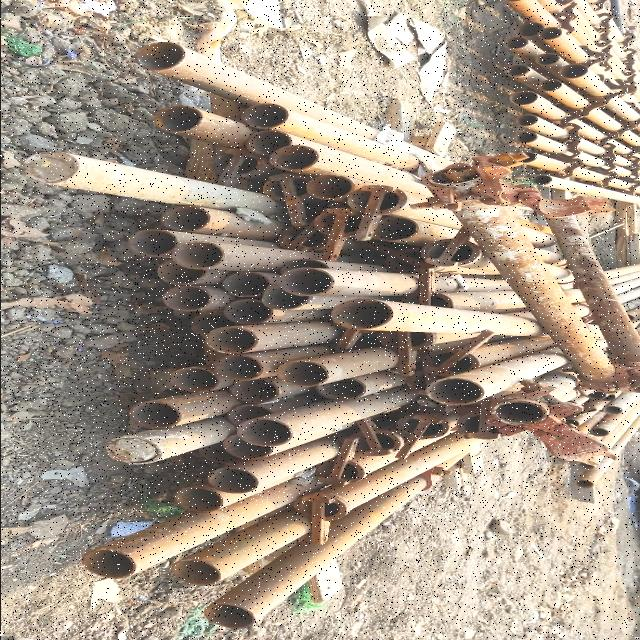pipe: (328, 298, 395, 334), (17, 149, 84, 185), (98, 436, 166, 469), (417, 237, 485, 269), (80, 546, 138, 581), (126, 400, 188, 431), (276, 268, 340, 298), (170, 240, 230, 272), (340, 428, 404, 458), (426, 378, 488, 408), (312, 208, 372, 239), (198, 604, 264, 632), (198, 327, 263, 355), (418, 349, 483, 377), (166, 485, 230, 513), (274, 358, 332, 388), (490, 399, 550, 428), (290, 494, 352, 522), (166, 364, 223, 394), (210, 150, 268, 179), (124, 228, 180, 258), (150, 104, 206, 134), (136, 40, 187, 72), (235, 419, 293, 447), (206, 467, 262, 496), (240, 102, 294, 132), (275, 225, 335, 252), (212, 355, 268, 383), (266, 145, 322, 173), (260, 174, 316, 202), (298, 175, 358, 201), (392, 415, 452, 441), (221, 298, 276, 326), (456, 411, 509, 440), (158, 206, 212, 234), (152, 260, 210, 286), (311, 460, 368, 486), (170, 558, 222, 586), (226, 379, 282, 405), (382, 247, 438, 273), (221, 270, 272, 298), (221, 434, 275, 460), (260, 286, 318, 310), (241, 131, 299, 155), (310, 379, 372, 401), (162, 287, 214, 313), (376, 330, 436, 352), (372, 216, 422, 242), (401, 291, 456, 312), (188, 312, 232, 338), (222, 405, 278, 425), (275, 258, 333, 276), (199, 445, 251, 465), (504, 89, 540, 108), (556, 64, 592, 80), (532, 51, 564, 67), (510, 131, 544, 146), (504, 63, 532, 81), (500, 36, 530, 52), (516, 21, 546, 37), (537, 25, 563, 43), (534, 79, 564, 94), (514, 114, 542, 129), (528, 175, 558, 187), (570, 479, 596, 491), (590, 427, 612, 439), (602, 406, 624, 416), (586, 391, 608, 401), (573, 408, 598, 416), (575, 462, 599, 470), (564, 418, 580, 428)
